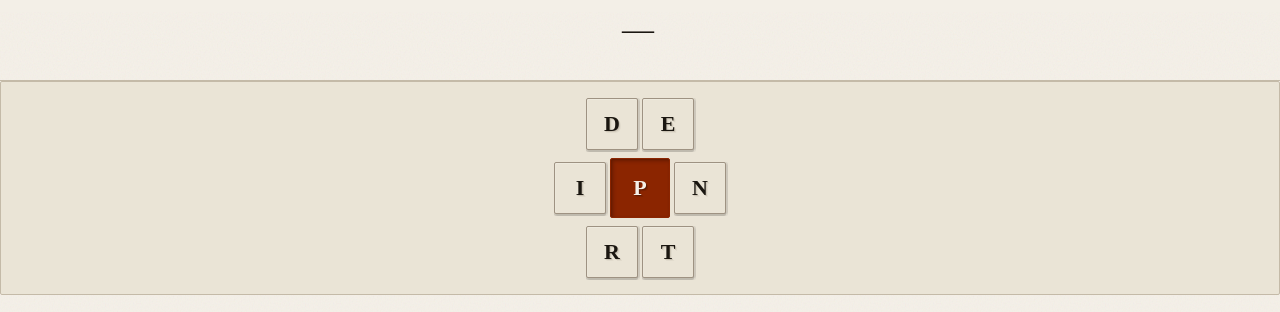
Scenario: LetterGrid tile click › clicking Center letter P appends p to current word
Click the button named "Center letter P". click: point(640, 188)
box: top-left (610, 158), bottom-right (670, 218)
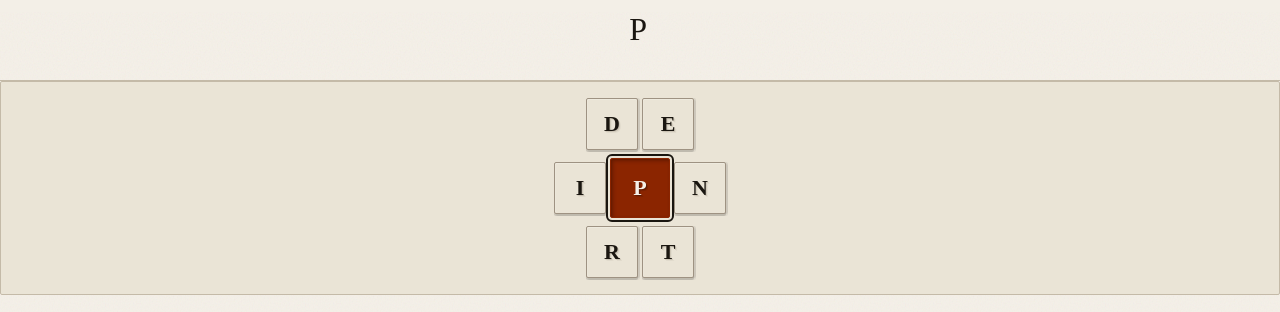
Expected: the text with test id "word-display" reads "P", top-left (629, 11), bottom-right (651, 47)
